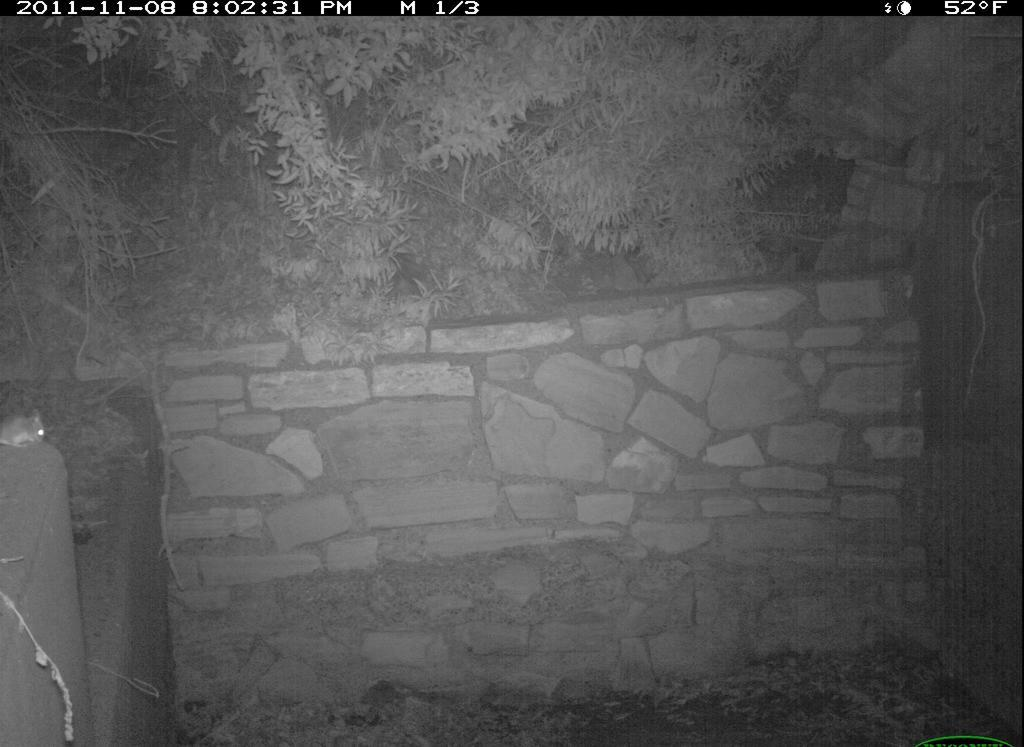rodent: (2, 395, 49, 461)
